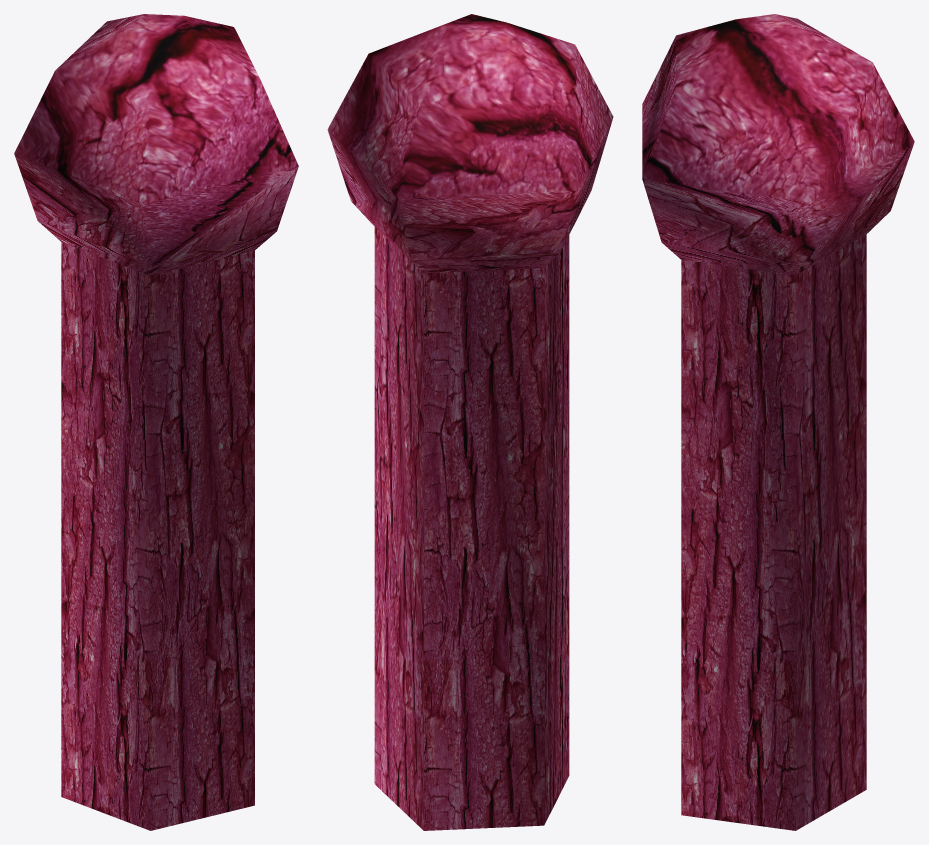
The model's file is Plant_Trunk.fbx.
The picture shows the model from 3 angles, left to right: view 1: azimuth 30°, elevation 25°; view 2: azimuth 150°, elevation 25°; view 3: azimuth 270°, elevation 25°; orthographic projection.
Visible parts, largest first — view 1: Plant_Trunk; view 2: Plant_Trunk; view 3: Plant_Trunk.
Part boxes in pixels (left/top/right/bottom): Plant_Trunk: left=14, top=14, right=298, bottom=830; Plant_Trunk: left=327, top=14, right=613, bottom=830; Plant_Trunk: left=642, top=14, right=914, bottom=830.
Bounding box in the file's own units: 1964 × 5762 × 1868.
